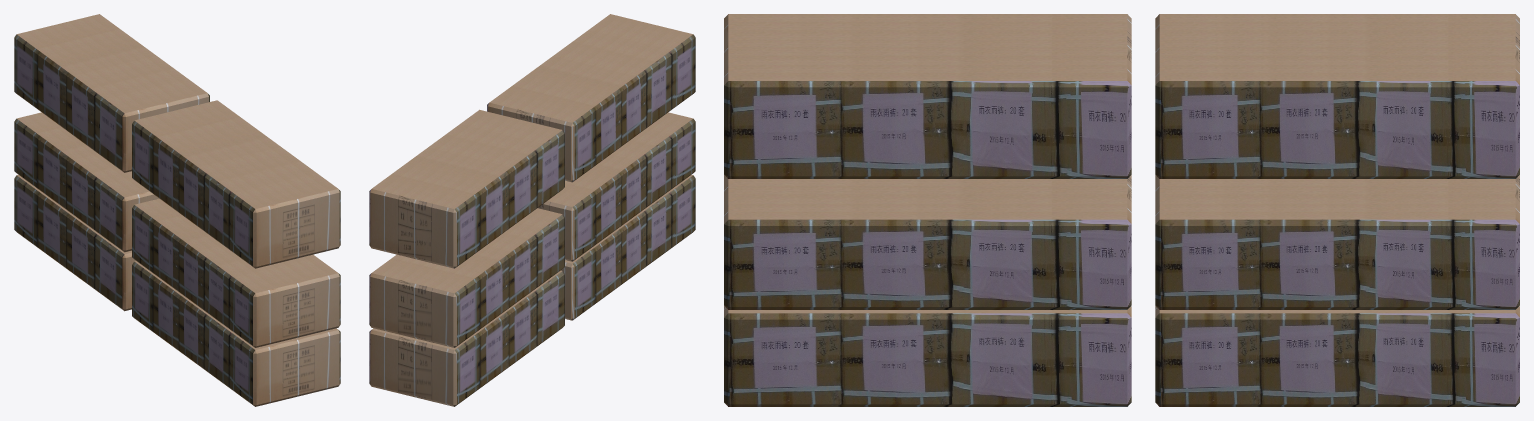
The model's file is yuyiku.FBX.
The picture shows the model from 3 angles, left to right: view 1: azimuth 30°, elevation 25°; view 2: azimuth 150°, elevation 25°; view 3: azimuth 270°, elevation 25°; orthographic projection. The views are drawn at different scales.
Parts seen in each view (by area): view 1: Box9090, Box9098; view 2: Box9098, Box9090; view 3: Box9090, Box9098.
Boxes of the visible parts, left/top/right/bottom form: Box9090: left=132, top=100, right=340, bottom=406; Box9098: left=14, top=14, right=209, bottom=311; Box9098: left=369, top=109, right=564, bottom=406; Box9090: left=487, top=14, right=695, bottom=320; Box9090: left=724, top=14, right=1131, bottom=406; Box9098: left=1155, top=14, right=1519, bottom=406.
Size of the model in its own units: 0.7354 by 3.51 by 1.59.
